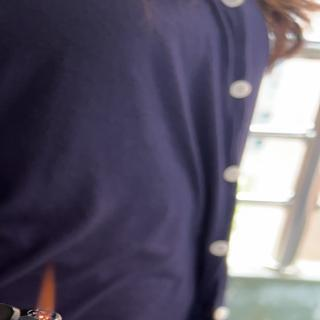fire: (31, 264, 59, 319)
